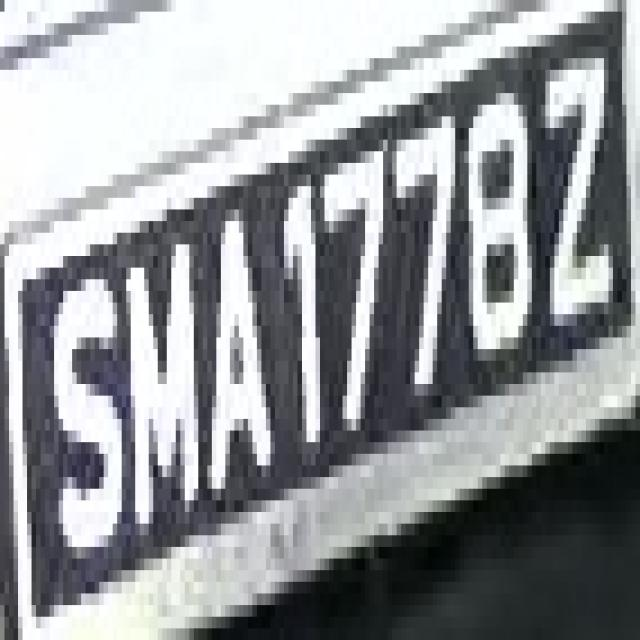1: (279, 140, 329, 488)
7: (378, 82, 459, 430), (311, 128, 397, 454)
8: (460, 70, 541, 407)
A: (189, 186, 275, 512)
M: (112, 210, 202, 536)
S: (36, 279, 131, 570)
Z: (528, 11, 626, 338)
